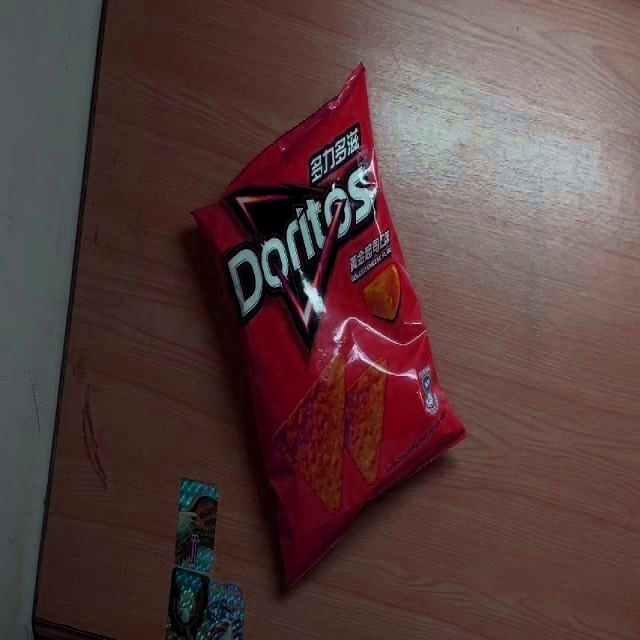Doritos: (190, 64, 467, 602)
